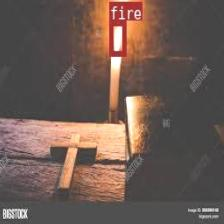fire: (108, 19, 125, 56)
